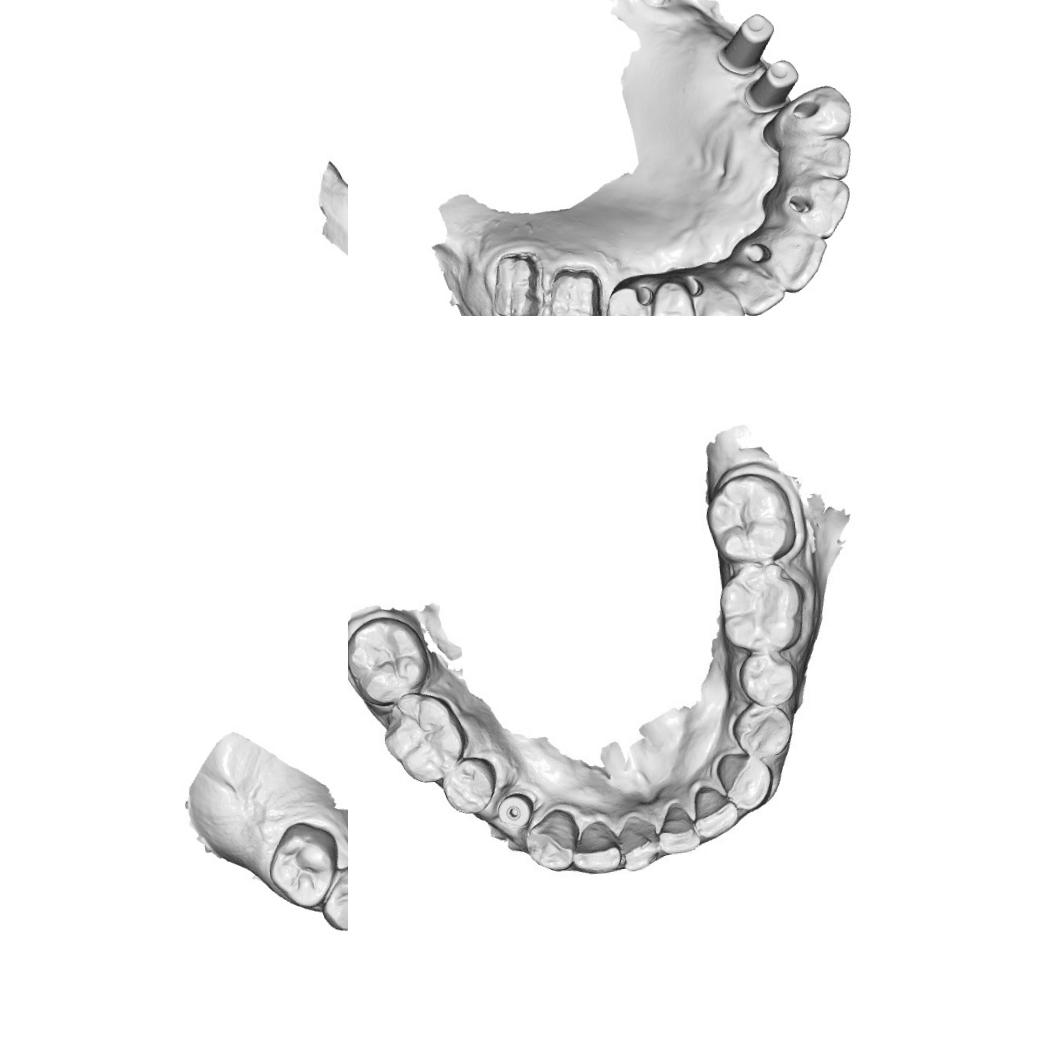abutment: (714, 8, 781, 78), (741, 56, 801, 116)
canine: (777, 82, 855, 142), (520, 804, 581, 875), (716, 749, 774, 813), (687, 274, 745, 316)
crown: (486, 247, 547, 316), (544, 260, 608, 316)
implant: (495, 790, 531, 828)
incisor: (781, 170, 856, 243), (760, 225, 831, 296), (786, 132, 853, 184), (730, 260, 787, 316), (570, 821, 623, 877), (692, 782, 740, 841), (616, 817, 664, 872), (656, 804, 702, 856)
molar: (704, 471, 794, 566), (714, 563, 806, 654), (384, 695, 467, 787), (348, 616, 430, 704), (264, 820, 341, 911), (316, 863, 348, 933)
premolar: (733, 648, 800, 710), (728, 701, 792, 764), (438, 756, 497, 816), (645, 276, 697, 316), (598, 280, 653, 316)
